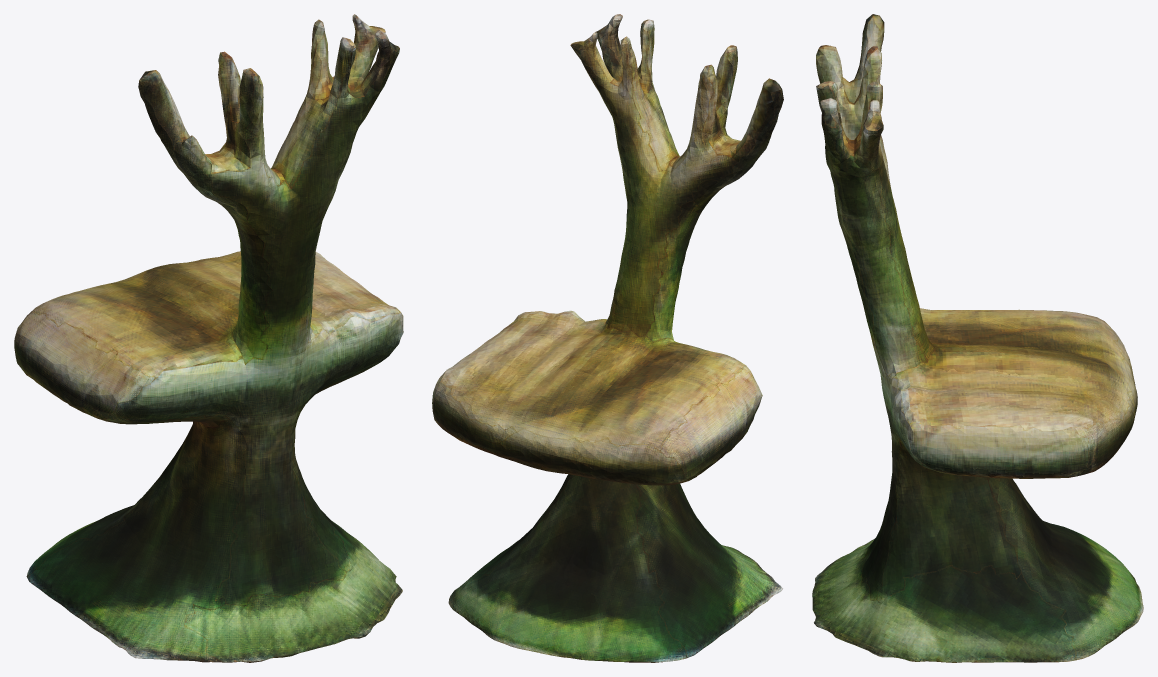
The model's file is a chair that looks like a tree.glb.
3 renders of one model, left to right at view 1: azimuth 30°, elevation 25°; view 2: azimuth 150°, elevation 25°; view 3: azimuth 270°, elevation 25°, orthographic. The views are drawn at different scales.
Bounding box in the file's own units: 0.5343 × 1.01 × 0.5572.
Materials: 1 (1 with a texture image).
